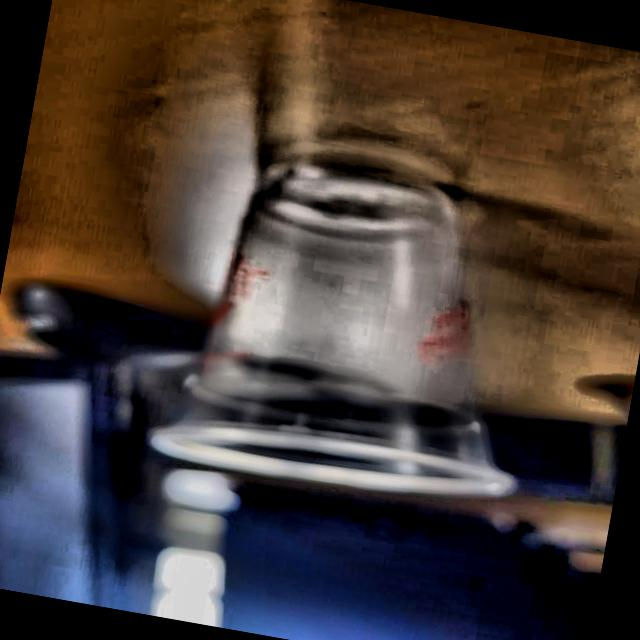plastic cup: (142, 118, 572, 522)
